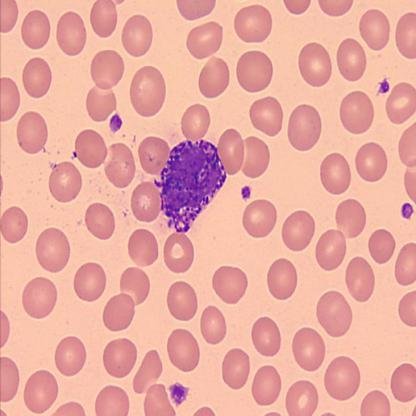Basophil: (156, 136, 228, 238)
